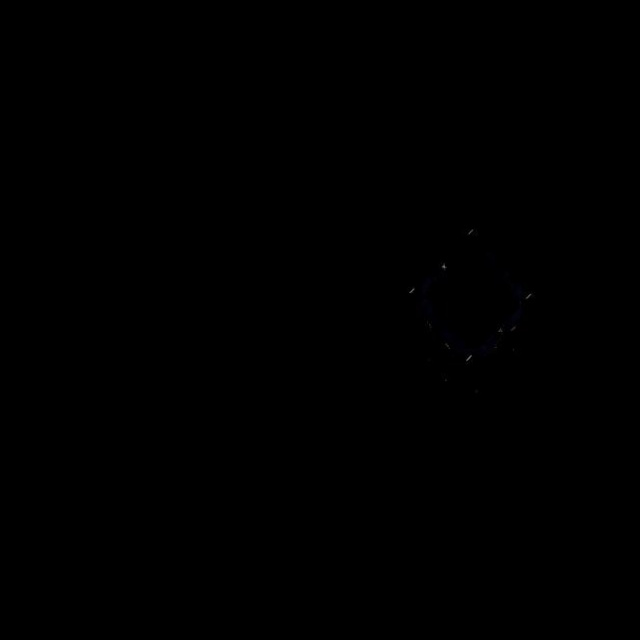satellite: (399, 220, 544, 407)
